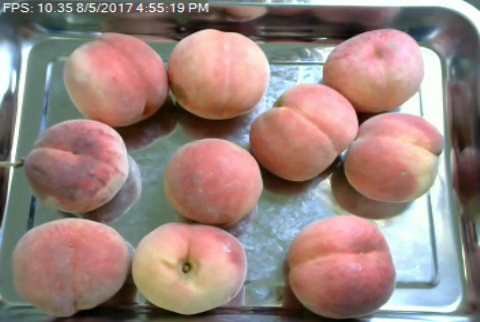Peach: (12, 216, 129, 316), (286, 215, 396, 318), (249, 83, 358, 181), (134, 222, 246, 316), (25, 118, 129, 214), (64, 32, 168, 127), (168, 25, 269, 120), (341, 112, 444, 203), (321, 25, 424, 114), (163, 138, 262, 225)
